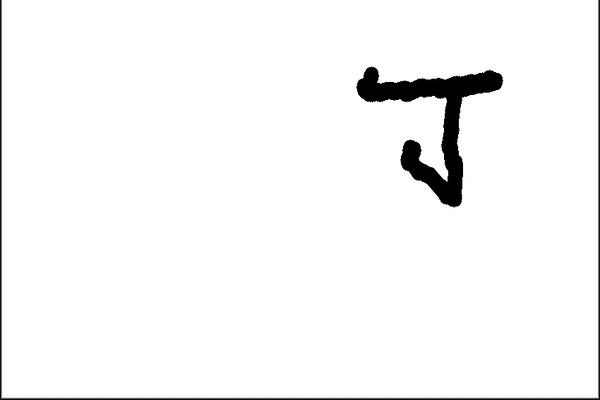J: (347, 58, 514, 214)
